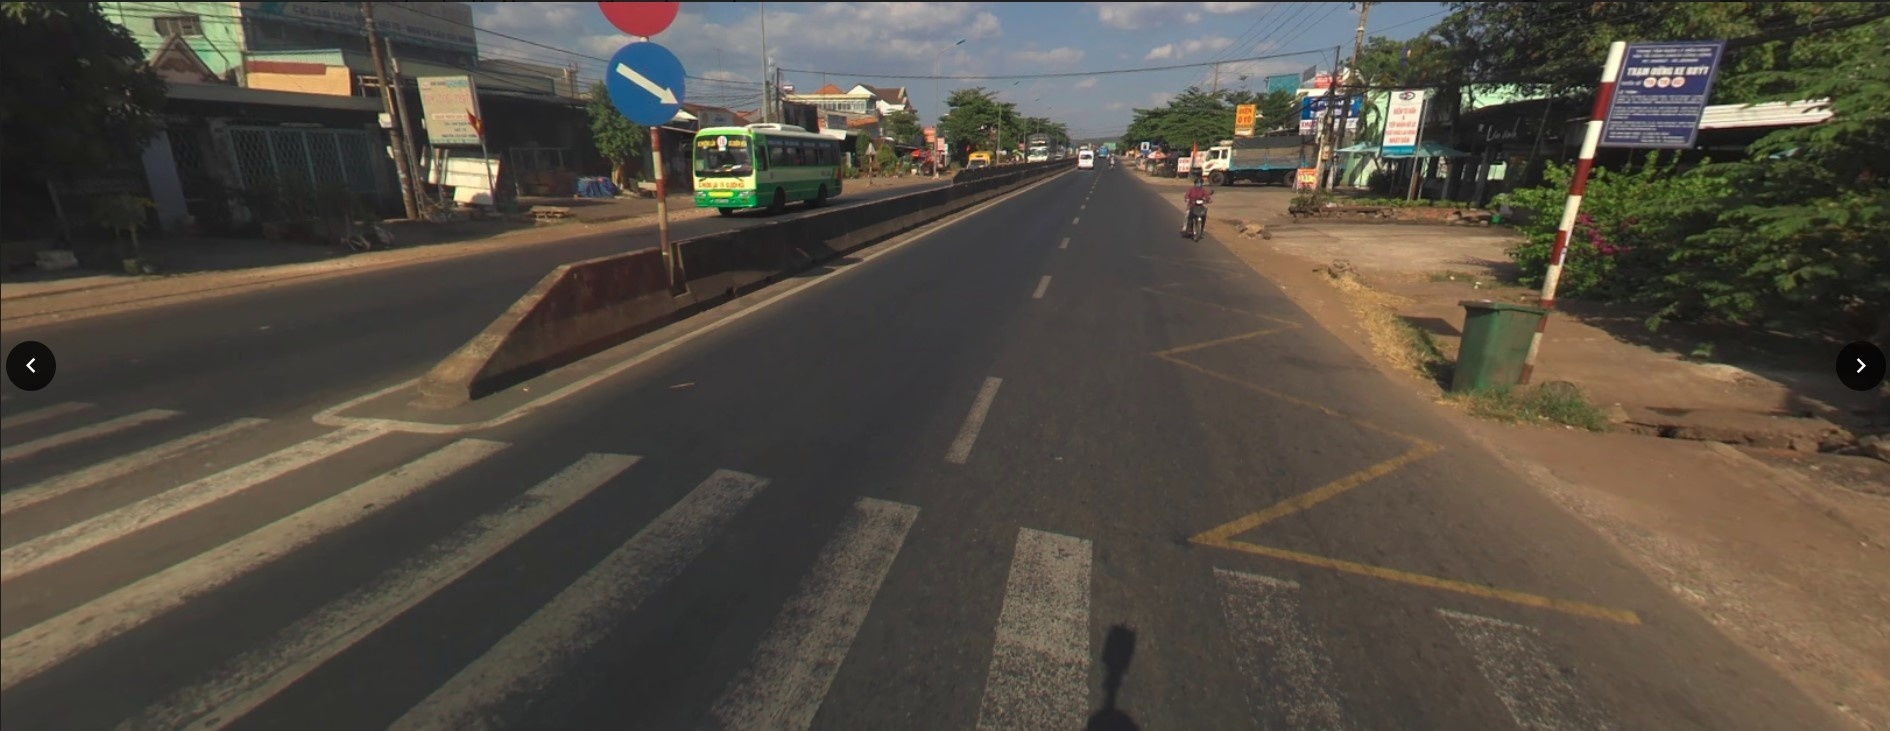Huong di phai re phai: (606, 43, 687, 125)
